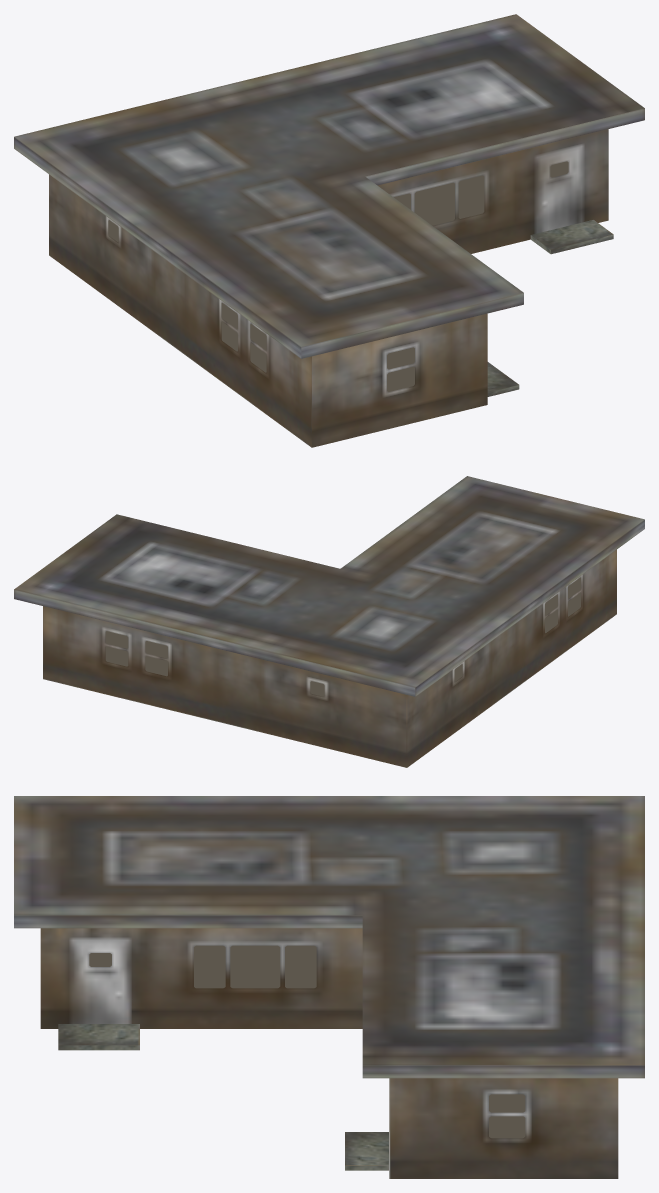
The model's file is 2civliving.glb.
The picture shows the model from 3 angles, top to bottom: view 1: azimuth 30°, elevation 25°; view 2: azimuth 150°, elevation 25°; view 3: azimuth 270°, elevation 25°; orthographic projection. The views are drawn at different scales.
Visible parts, largest first — view 1: Box02, LitWin_2CivLiving; view 2: Box02, LitWin_2CivLiving; view 3: Box02, LitWin_2CivLiving.
Boxes of the visible parts, x1,y1,x2,y2 form: Box02: (14, 14, 644, 447); LitWin_2CivLiving: (108, 161, 568, 391); Box02: (14, 476, 644, 767); LitWin_2CivLiving: (105, 577, 580, 696); Box02: (14, 796, 644, 1178); LitWin_2CivLiving: (89, 945, 525, 1138).
Bounding box in the file's own units: 14.11 × 3.09 × 13.98.
Materials: 1 (1 with a texture image).
